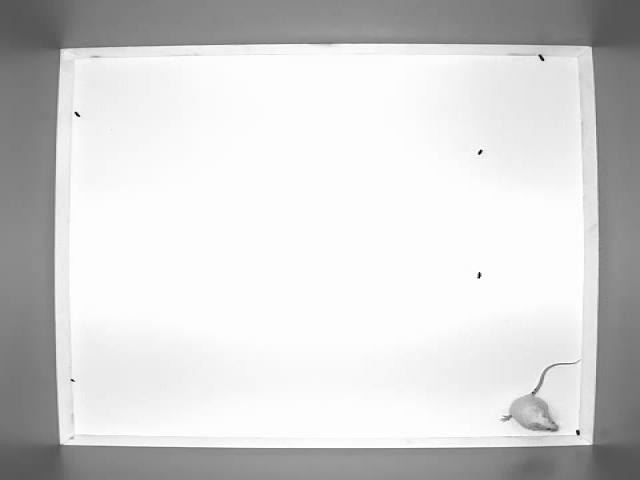Tikus: (502, 360, 580, 433)
